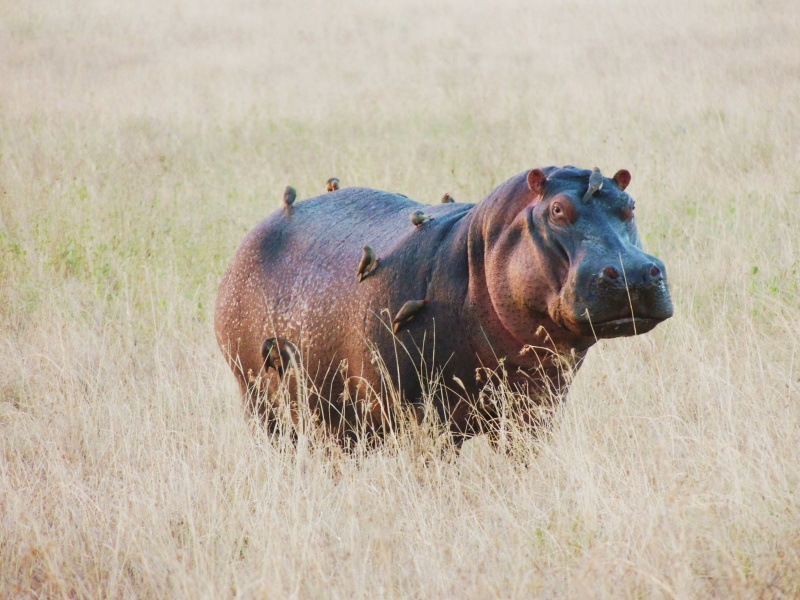hipopotamo: (211, 158, 676, 452)
